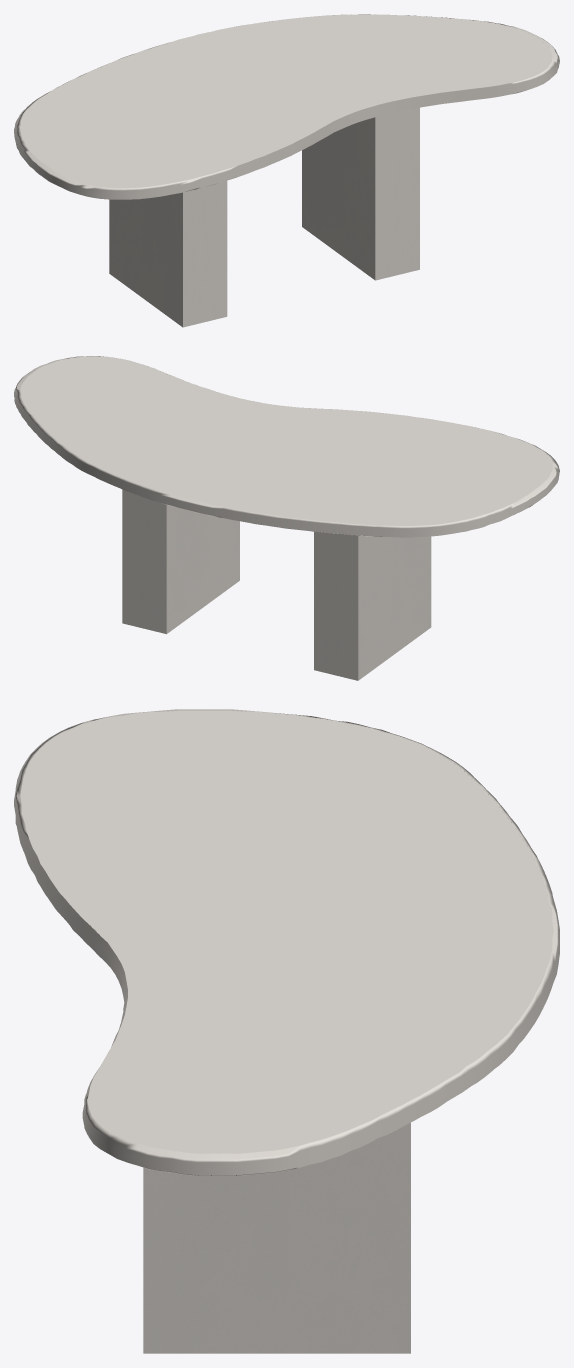
Rendered from pearlwhite_leaf1_round_ridge.glb.
The picture shows the model from 3 angles, top to bottom: view 1: azimuth 30°, elevation 25°; view 2: azimuth 150°, elevation 25°; view 3: azimuth 270°, elevation 25°; orthographic projection. The views are drawn at different scales.
Parts seen in each view (by area): view 1: round_leaf1, ridge; view 2: round_leaf1, ridge; view 3: round_leaf1, ridge.
Boxes of the visible parts, x1,y1,x2,y2 form: round_leaf1: (14,14,559,199); ridge: (109,107,419,327); round_leaf1: (14,356,559,537); ridge: (122,489,431,680); round_leaf1: (14,709,559,1175); ridge: (143,1122,410,1353).
Size of the model in its own units: 7.49 by 2.51 by 3.8.
Materials: 1 (1 with a texture image).
